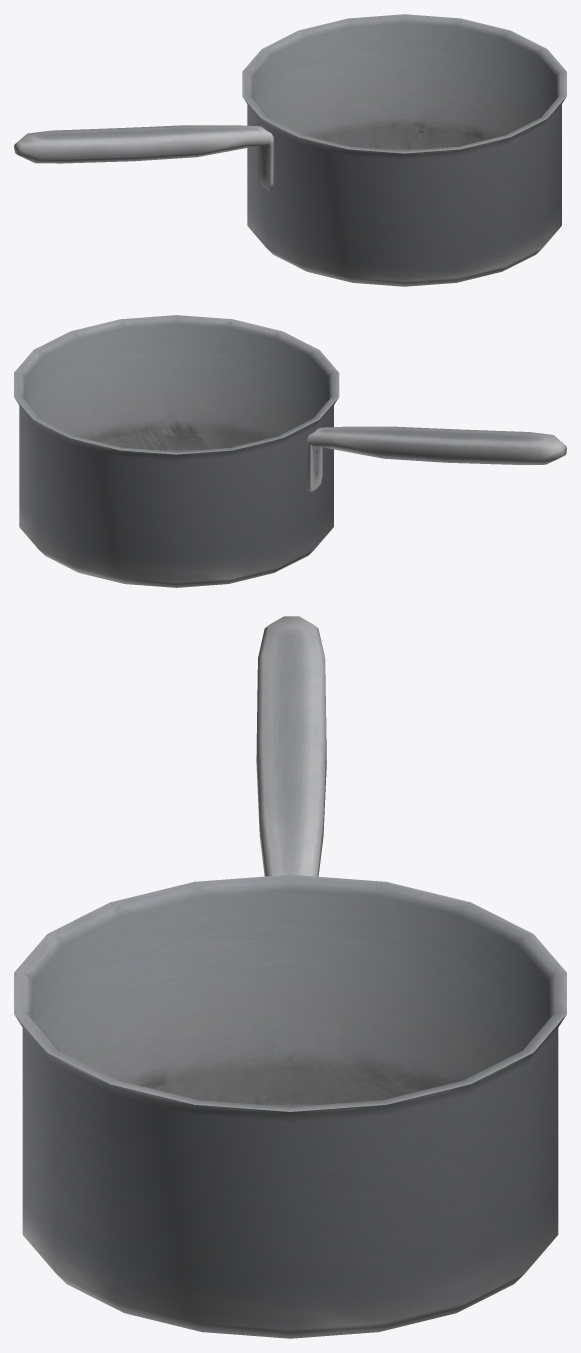
Rendered from SM_Pan_02.glb.
3 views of the same model, one above another, from view 1: azimuth 30°, elevation 25°; view 2: azimuth 150°, elevation 25°; view 3: azimuth 270°, elevation 25° (orthographic). The views are drawn at different scales.
Parts seen in each view (by area): view 1: SM_Pan_02; view 2: SM_Pan_02; view 3: SM_Pan_02.
Part boxes in pixels (x1,y1,x2,y2): SM_Pan_02: [14, 14, 566, 286]; SM_Pan_02: [14, 315, 566, 587]; SM_Pan_02: [14, 616, 566, 1338].
Bounding box in the file's own units: 0.5761 × 0.1872 × 0.3051.
Materials: 1 (1 with a texture image).
